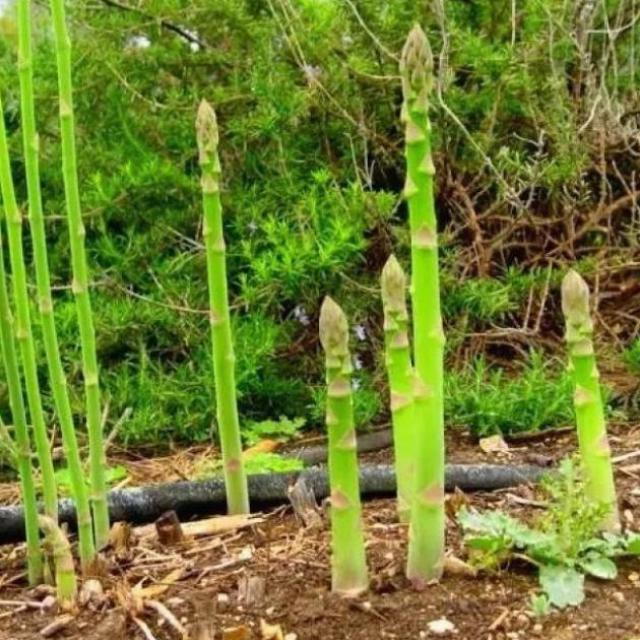aspargus: (393, 16, 452, 574), (196, 102, 249, 518), (559, 266, 626, 534), (319, 297, 370, 597)
